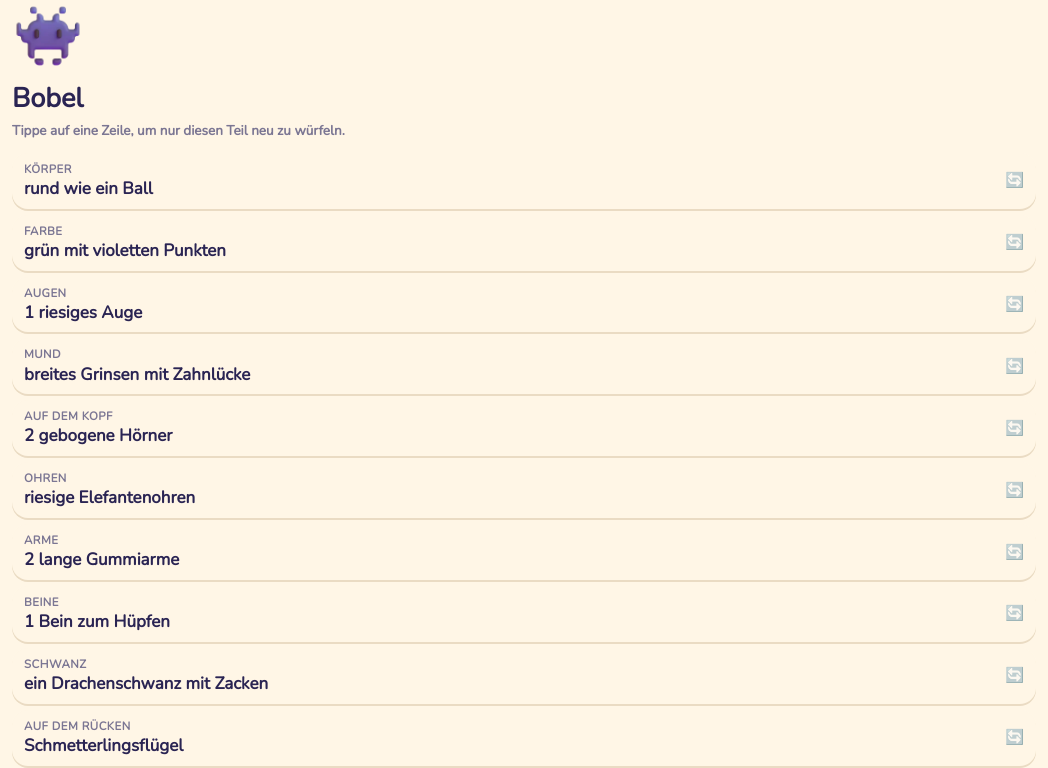
Test case: einfache Werkzeuge › monster würfelt alle Bauteile und einzelne Zeilen neu
Expected: the text "Bobel" is shown, [12,80,83,117]
Expected: the text "Körper" is shown, [24,161,72,177]
Click the button "Schwanz ein Drachenschwanz mit Zacken 🔄" at (55, 664), box [12,648,1036,704]
(page scrolled)
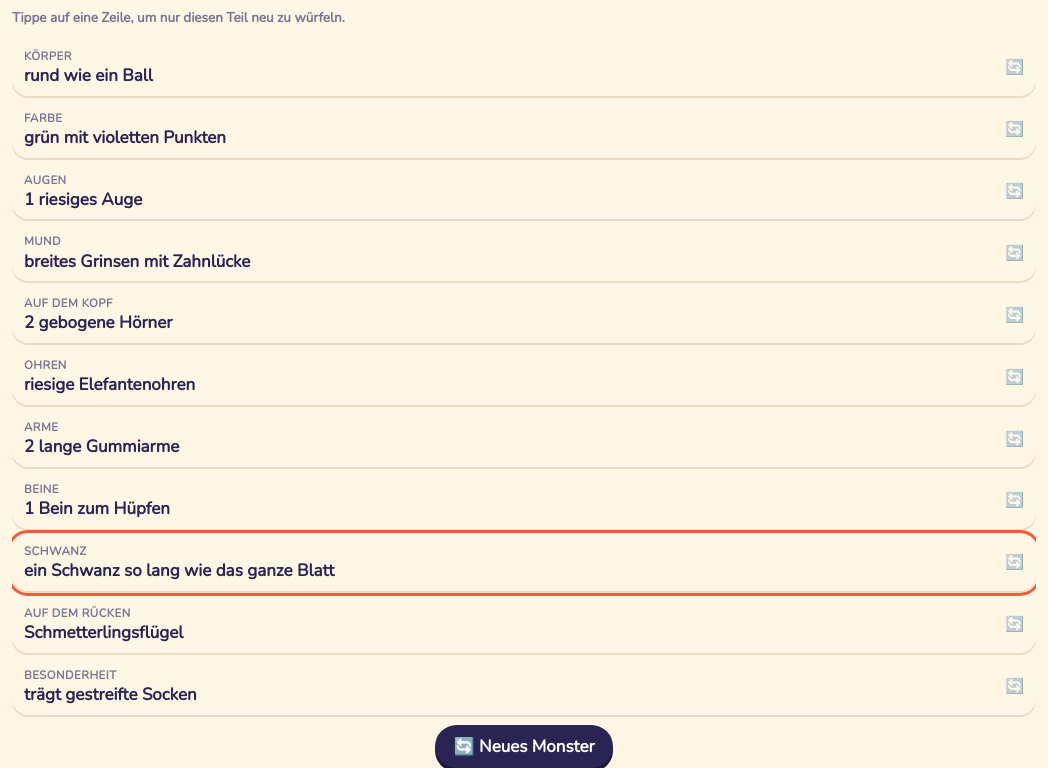
Expected: the text "rund wie ein Ball" is shown, [24,64,153,87]
Result: the text "ein Schwanz so lang wie das ganze Blatt" is shown at [24,559,334,582]
Click the button "🔄 Neues Monster" at (524, 746), box [436,724,613,767]
(page scrolled)
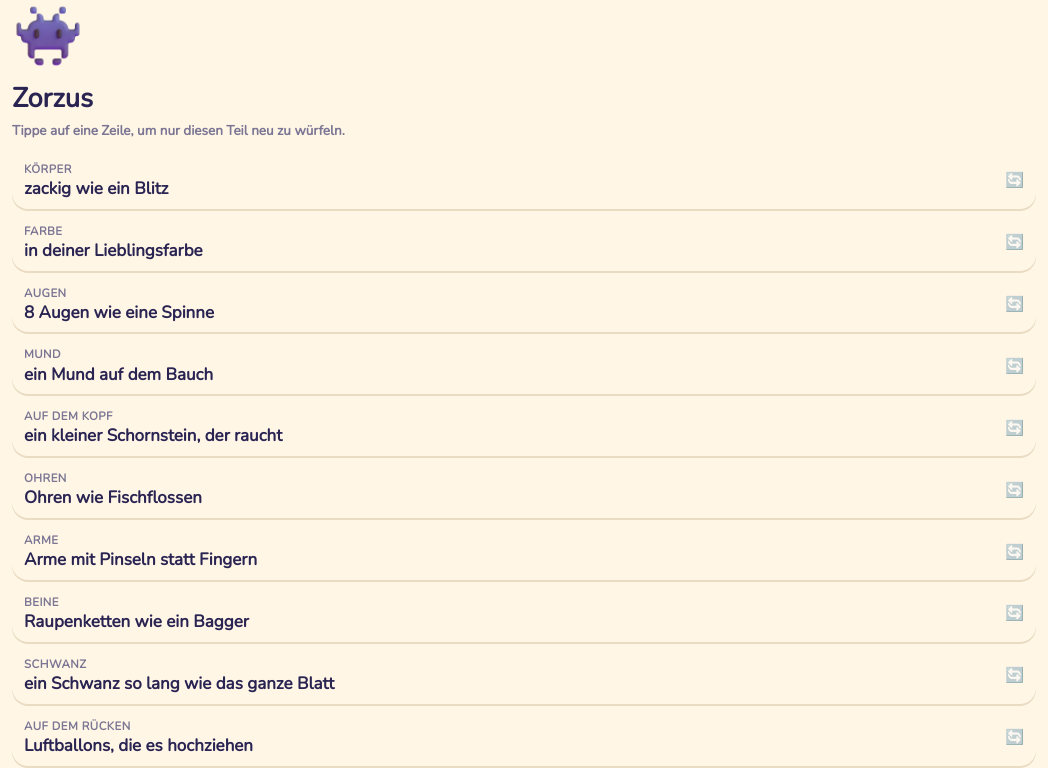
Result: the text "Zorzus" is shown at [12,80,93,117]
Result: the button "rund wie ein Ball" is gone
